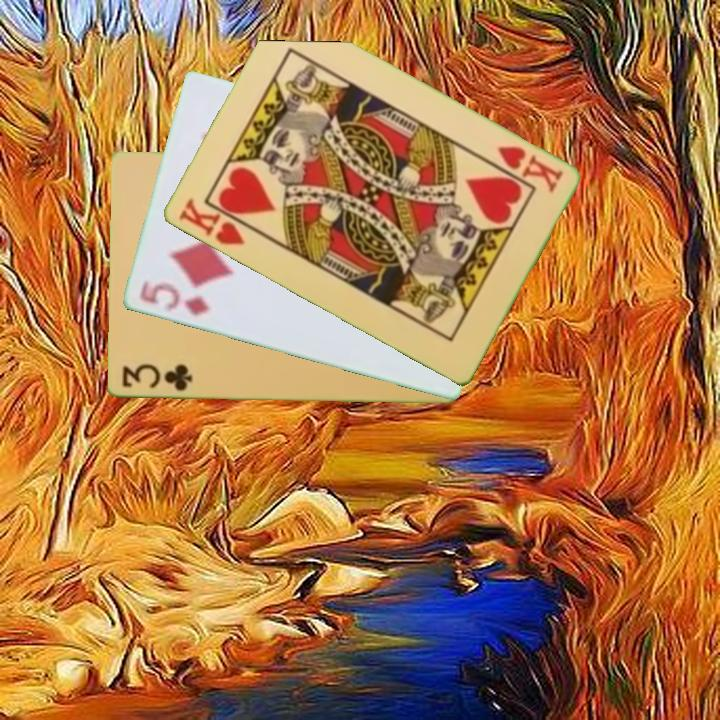3c: (119, 361, 195, 394)
5d: (135, 277, 213, 320)
Kh: (174, 195, 258, 249), (493, 142, 566, 197)
